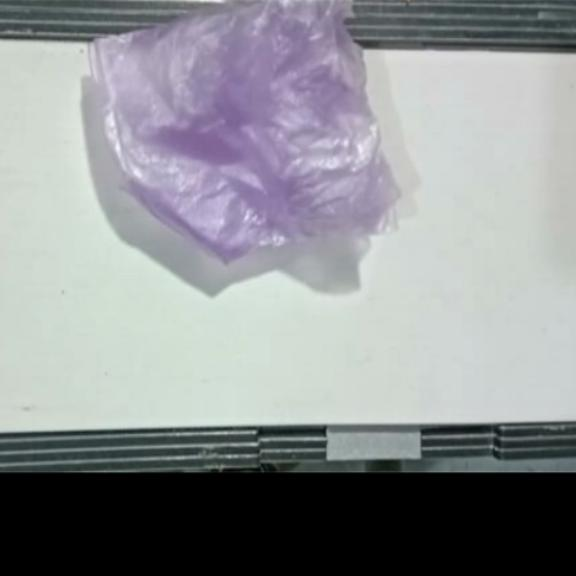Plastik: (93, 0, 400, 266)
